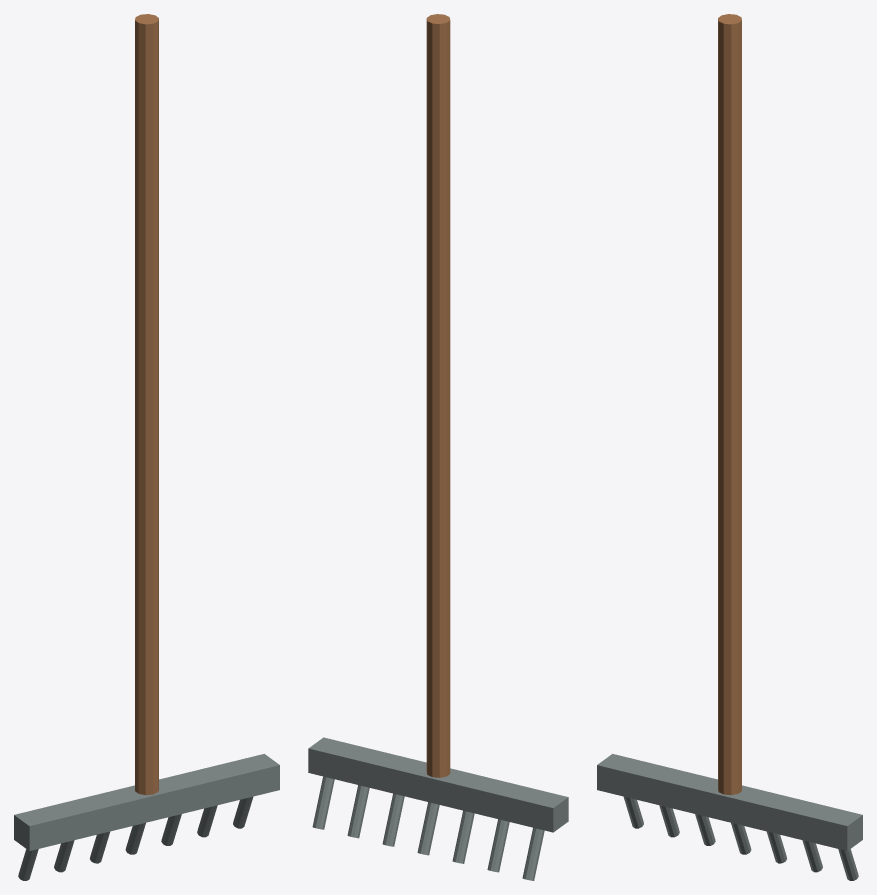
File: garden_rake.glb
3 views of the same model, side by side, from view 1: azimuth 30°, elevation 25°; view 2: azimuth 150°, elevation 25°; view 3: azimuth 330°, elevation 25° (orthographic). The views are drawn at different scales.
Visible parts, largest first — view 1: garden_rake; view 2: garden_rake; view 3: garden_rake.
Boxes of the visible parts, x1,y1,x2,y2 form: garden_rake: (14, 14, 279, 880); garden_rake: (308, 14, 568, 880); garden_rake: (597, 14, 862, 880).
Size of the model in its own units: 0.42 by 1.35 by 0.0757.
